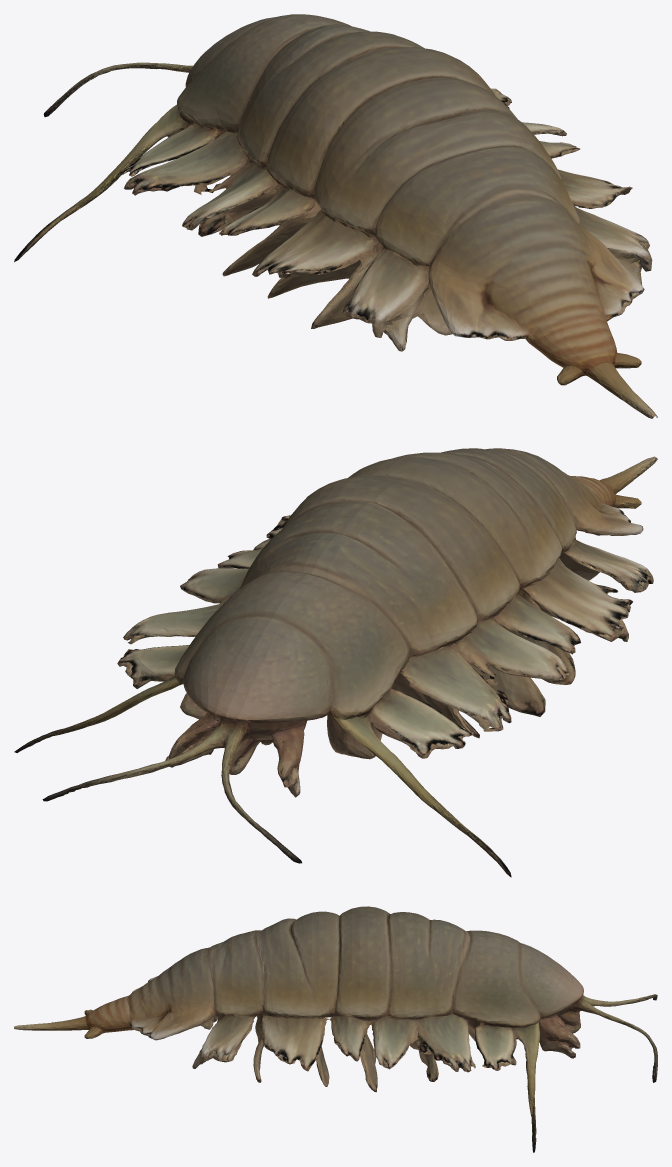
3 views of the same model, one above another, from view 1: azimuth 30°, elevation 25°; view 2: azimuth 150°, elevation 25°; view 3: azimuth 270°, elevation 25° (orthographic). The views are drawn at different scales.
Visible parts, largest first — view 1: world; view 2: world; view 3: world.
Boxes of the visible parts, box(x1,y1,x2,y2) form: world: box(14, 14, 657, 418); world: box(14, 448, 657, 877); world: box(14, 906, 657, 1152).
Bounding box in the file's own units: 0.5926 × 0.2707 × 1.
Materials: 1 (1 with a texture image).
